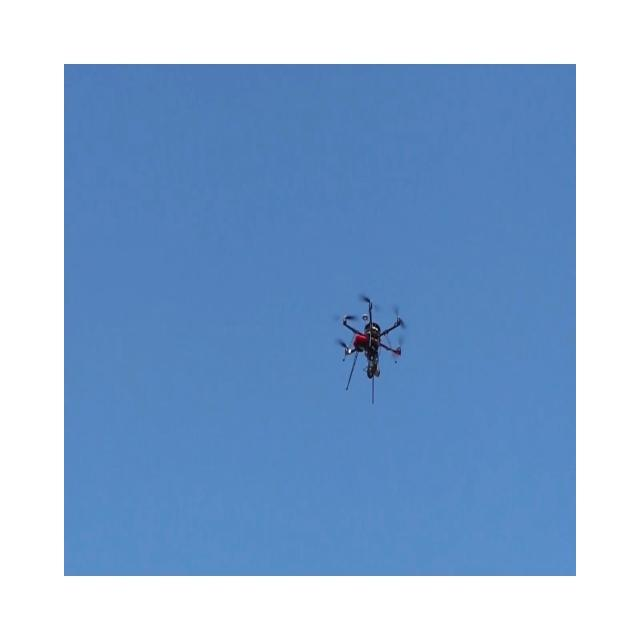drone: (336, 292, 404, 403)
